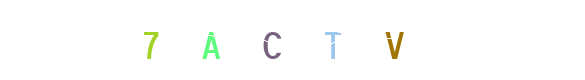7: (170, 0, 250, 80)
A: (230, 0, 310, 80)
C: (252, 0, 332, 80)
T: (259, 0, 339, 80)
V: (268, 0, 348, 80)
